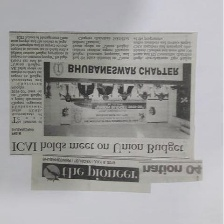news_paper: (7, 29, 202, 193)
